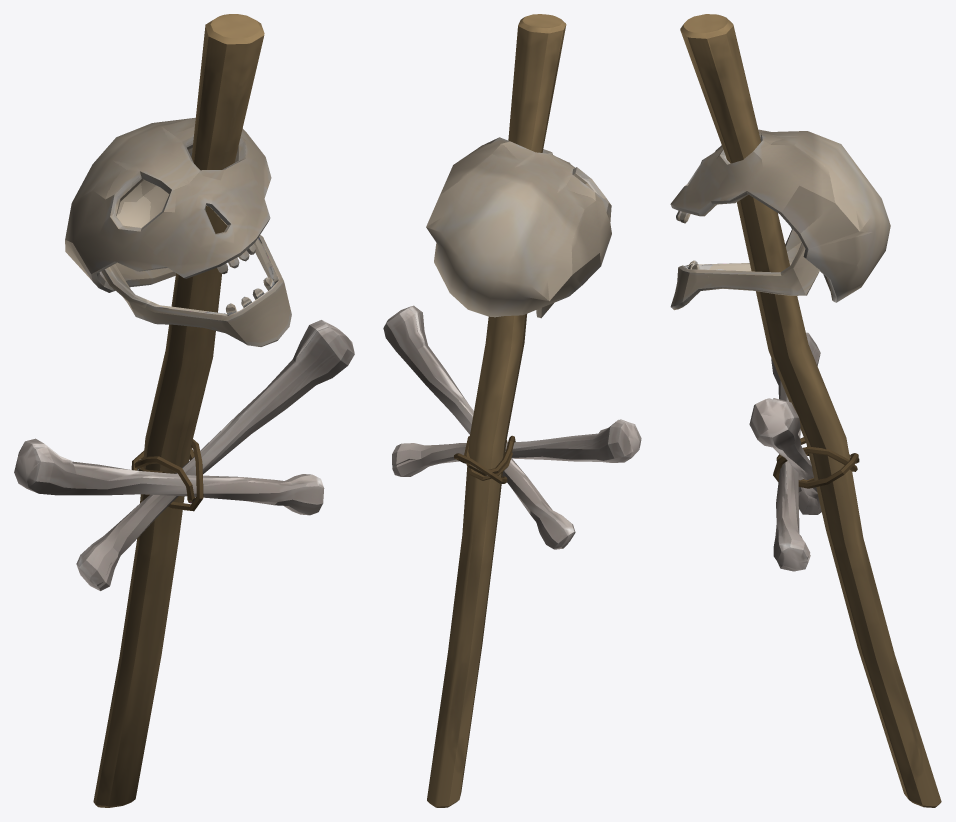
File: DangerSignal.fbx
3 renders of one model, left to right at view 1: azimuth 30°, elevation 25°; view 2: azimuth 150°, elevation 25°; view 3: azimuth 270°, elevation 25°, orthographic. The views are drawn at different scales.
Parts seen in each view (by area): view 1: Cube.002; view 2: Cube.002; view 3: Cube.002.
Part boxes in pixels (bbox=[...]): Cube.002: bbox=[14, 14, 354, 807]; Cube.002: bbox=[383, 14, 641, 807]; Cube.002: bbox=[670, 14, 941, 807].
Bounding box in the file's own units: 154 × 404 × 127.
